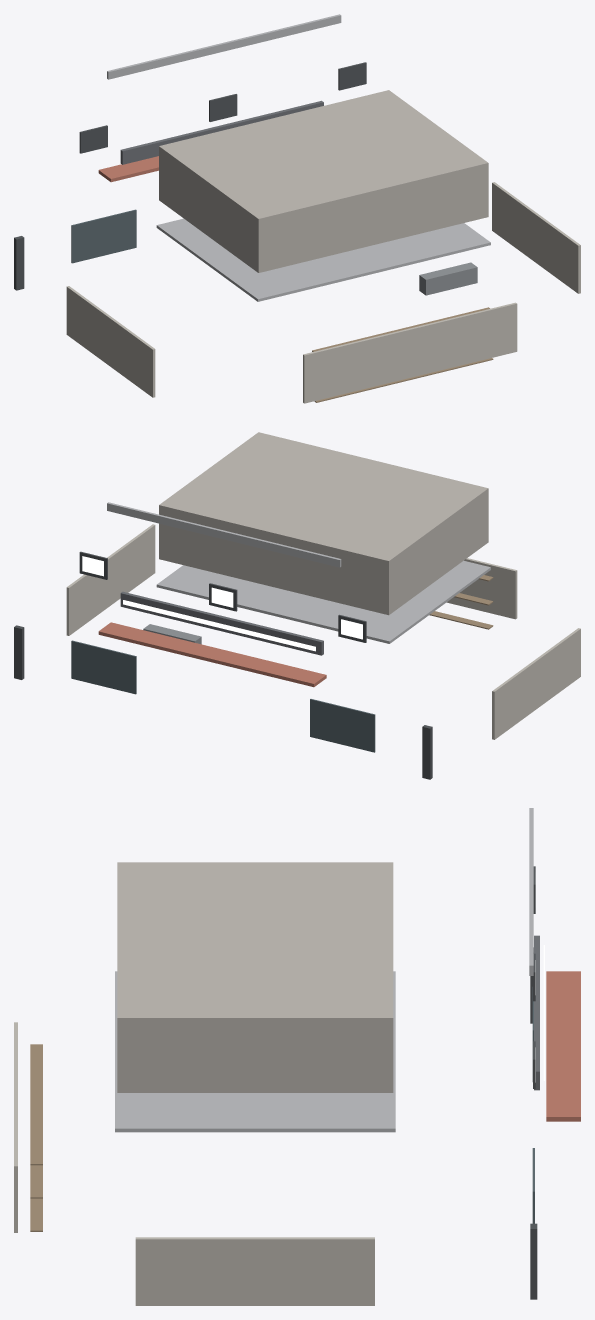
The model's file is shop-enterable.glb.
3 renders of one model, top to bottom at view 1: azimuth 30°, elevation 25°; view 2: azimuth 150°, elevation 25°; view 3: azimuth 270°, elevation 25°, orthographic. The views are drawn at different scales.
Visible parts, largest first — view 1: Building; view 2: Building, WinGlow; view 3: Building.
Boxes of the visible parts, x1,y1,x2,y2 form: Building: [14, 14, 580, 403]; Building: [14, 432, 580, 779]; WinGlow: [82, 556, 362, 639]; Building: [14, 808, 580, 1305].
Size of the model in its own units: 14.89 by 7.12 by 12.32.
